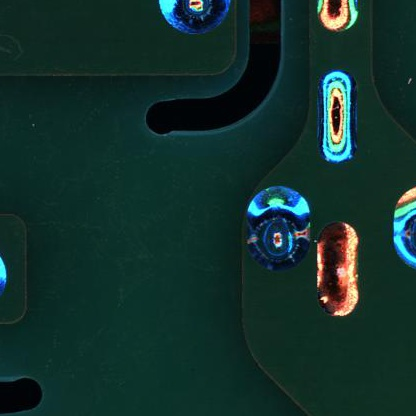spot: (235, 181, 316, 279)
